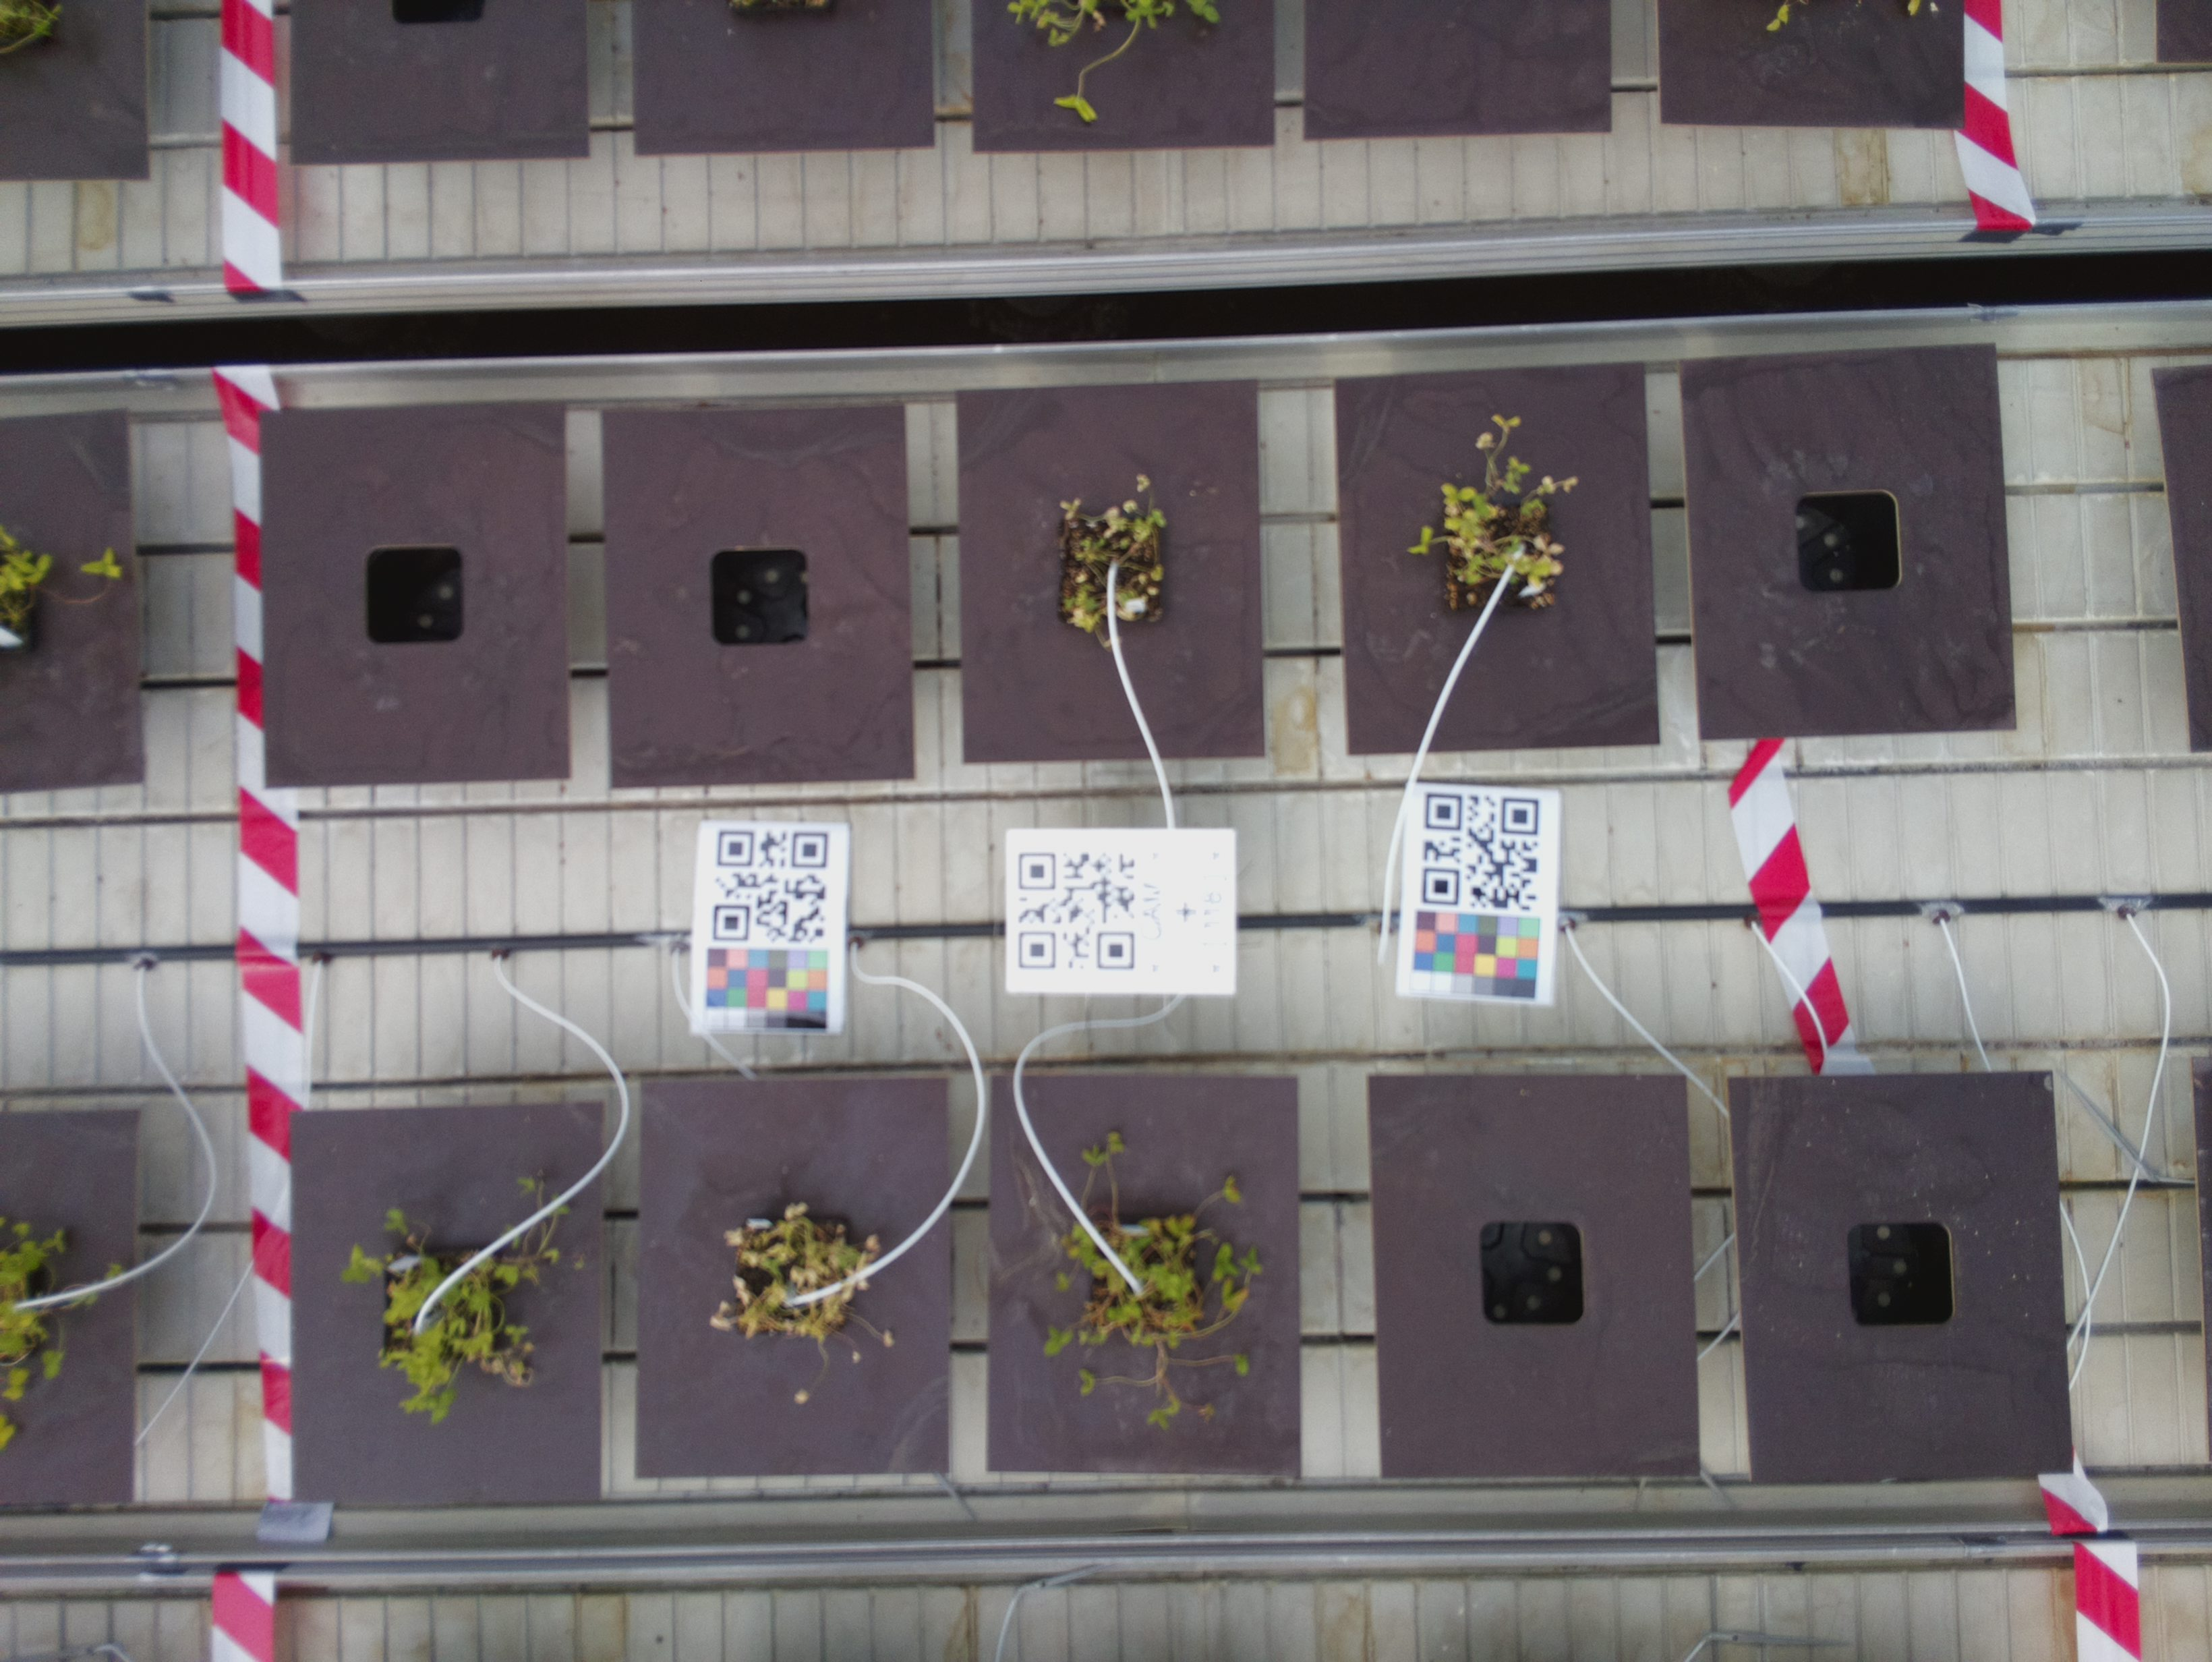POT: (1725, 1075, 2076, 1475), (1370, 1075, 1700, 1480), (290, 1105, 611, 1514), (1678, 356, 2022, 737), (639, 1081, 951, 1479), (992, 1074, 1302, 1472), (595, 407, 922, 780), (1336, 375, 1660, 747), (257, 409, 574, 786), (951, 389, 1271, 763)
QRCODE: (1006, 828, 1241, 999)
QRCOLOR: (686, 821, 857, 1039), (1400, 784, 1563, 1009)
